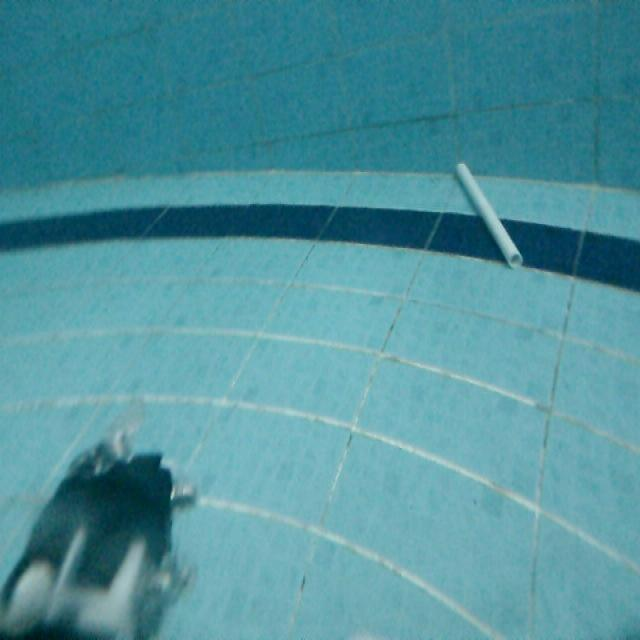Cube: (451, 156, 525, 271)
